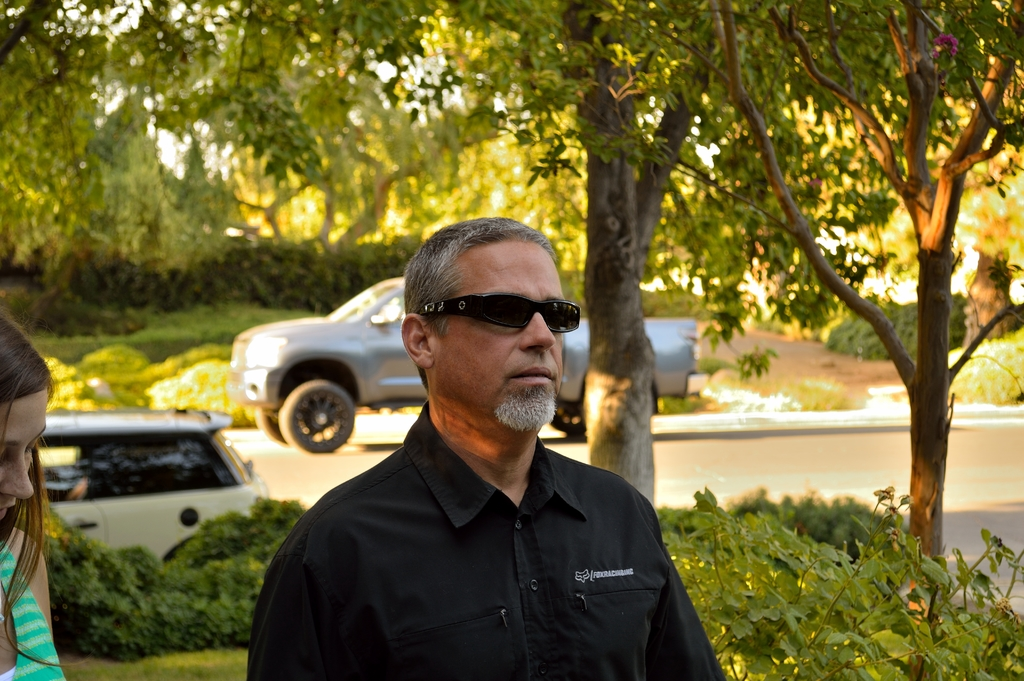cars: (37, 408, 268, 567)
